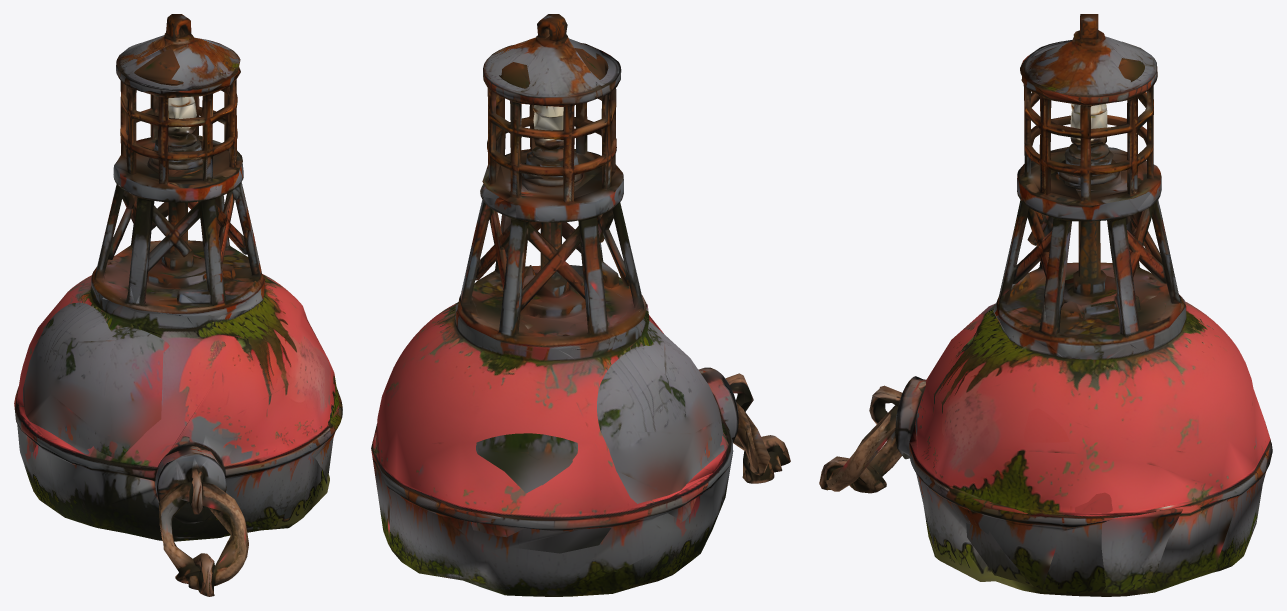
Rendered from lhi_buoy_red.glb.
3 views of the same model, side by side, from view 1: azimuth 30°, elevation 25°; view 2: azimuth 150°, elevation 25°; view 3: azimuth 270°, elevation 25° (orthographic). The views are drawn at different scales.
Visible parts, largest first — view 1: material; view 2: material; view 3: material.
Boxes of the visible parts, x1,y1,x2,y2 form: material: (14,14,342,596); material: (371,14,790,596); material: (819,14,1272,596).
Bounding box in the file's own units: 0.5677 × 0.9015 × 0.7129.
1 material, 1 textured.
